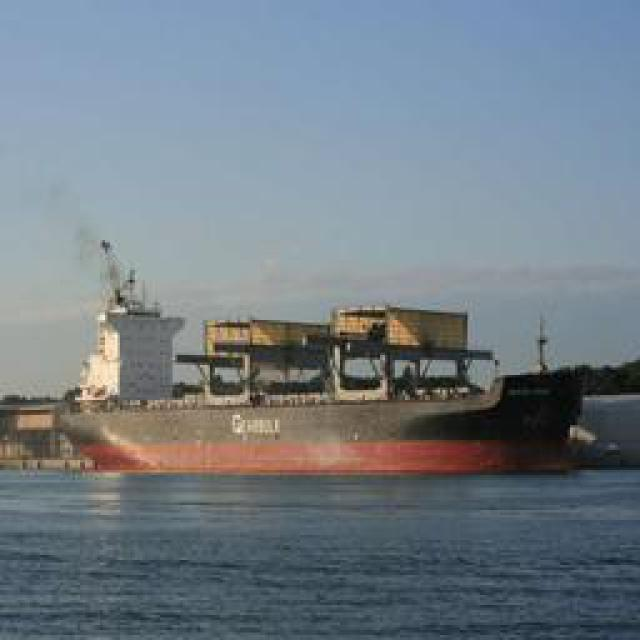Ship: (57, 347, 590, 477)
